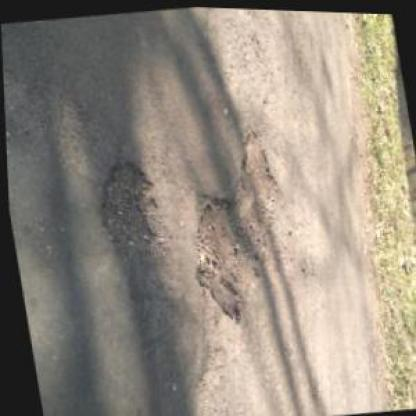pothole: (173, 123, 302, 312), (87, 152, 168, 265)
